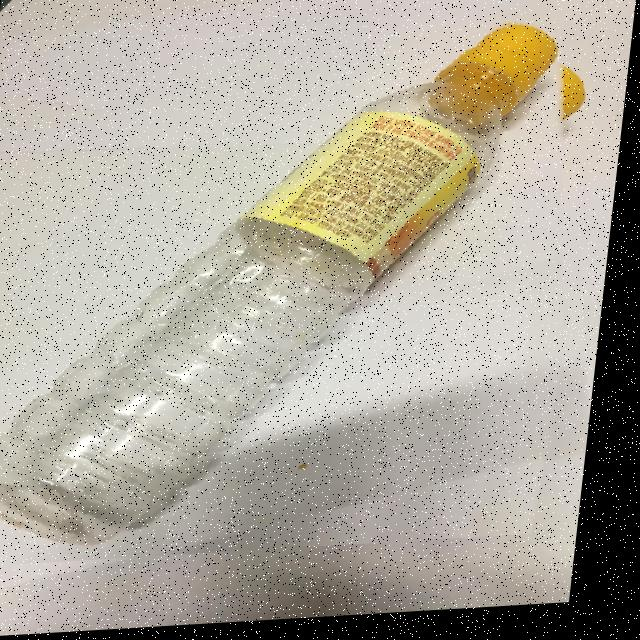litter: (0, 23, 623, 569), (488, 51, 610, 162)
